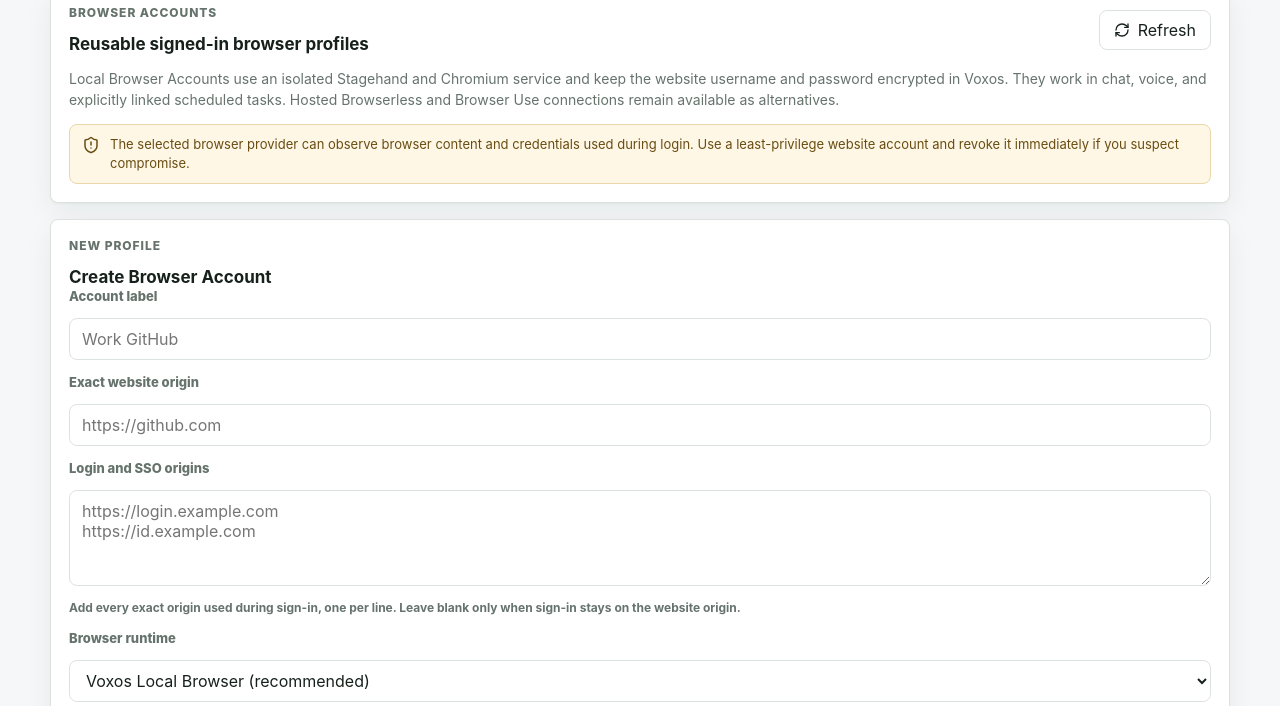
it: BrowserAccountsPage › creates an account with assignments off by default and no password field
Select "Browser Use Cloud" in the dropdown labelled "Browser runtime" at [640, 681], box [69, 660, 1211, 702]
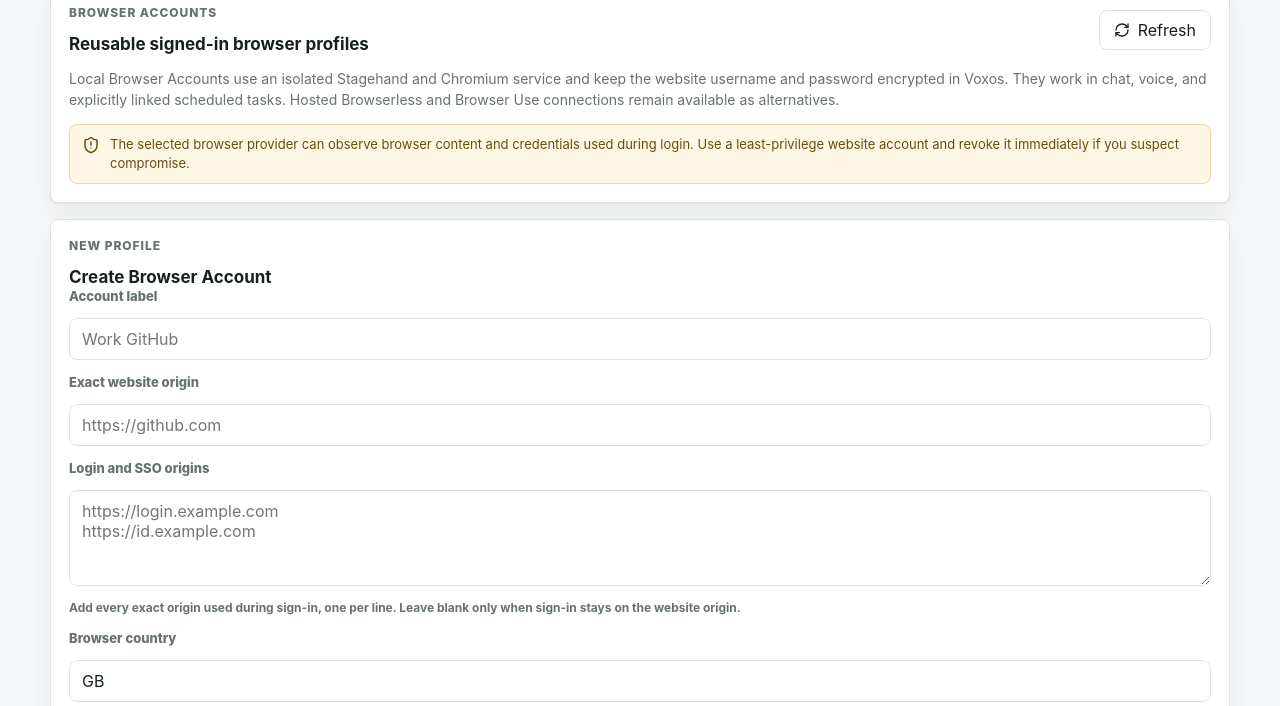
Expected: the text "Browser country" is shown, [69, 630, 176, 646]
Type "Work account" into the field labelled "Account label".
click(640, 339); type("Work account")  # box [69, 318, 1211, 360]
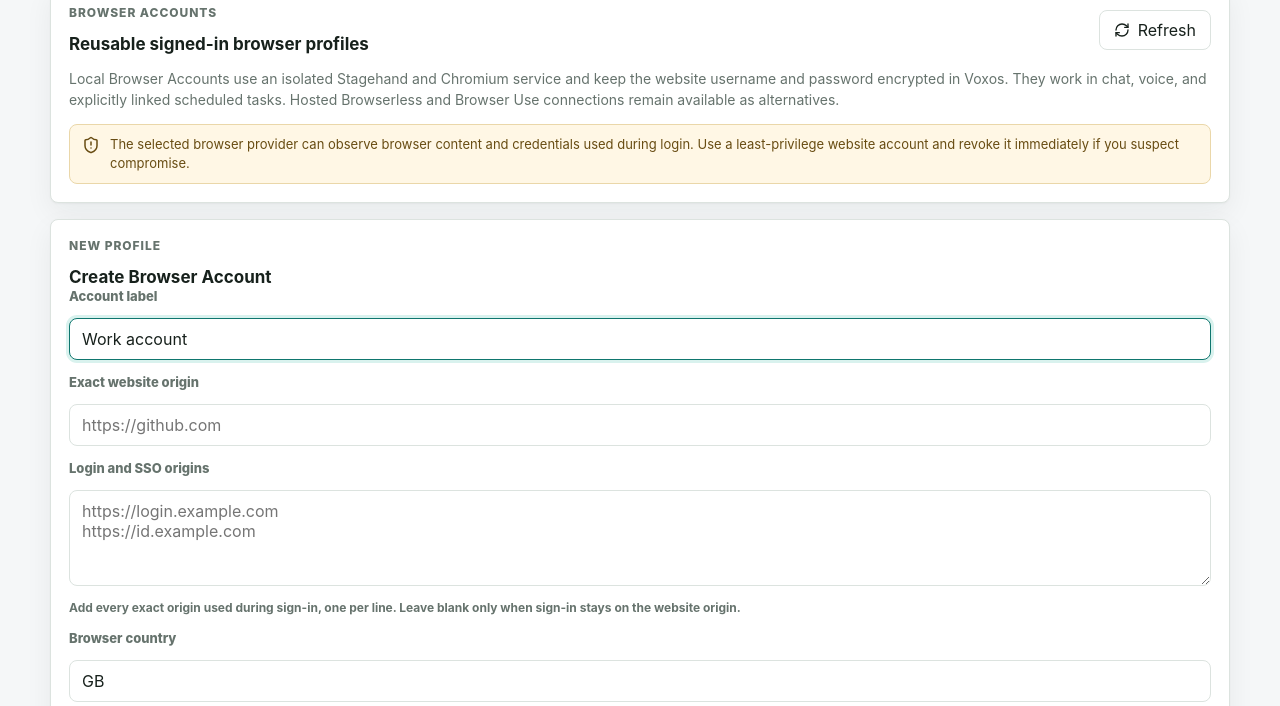
Type "https://example.com" into the field labelled "Exact website origin".
click(640, 425); type("https://example.com")  # box [69, 404, 1211, 446]
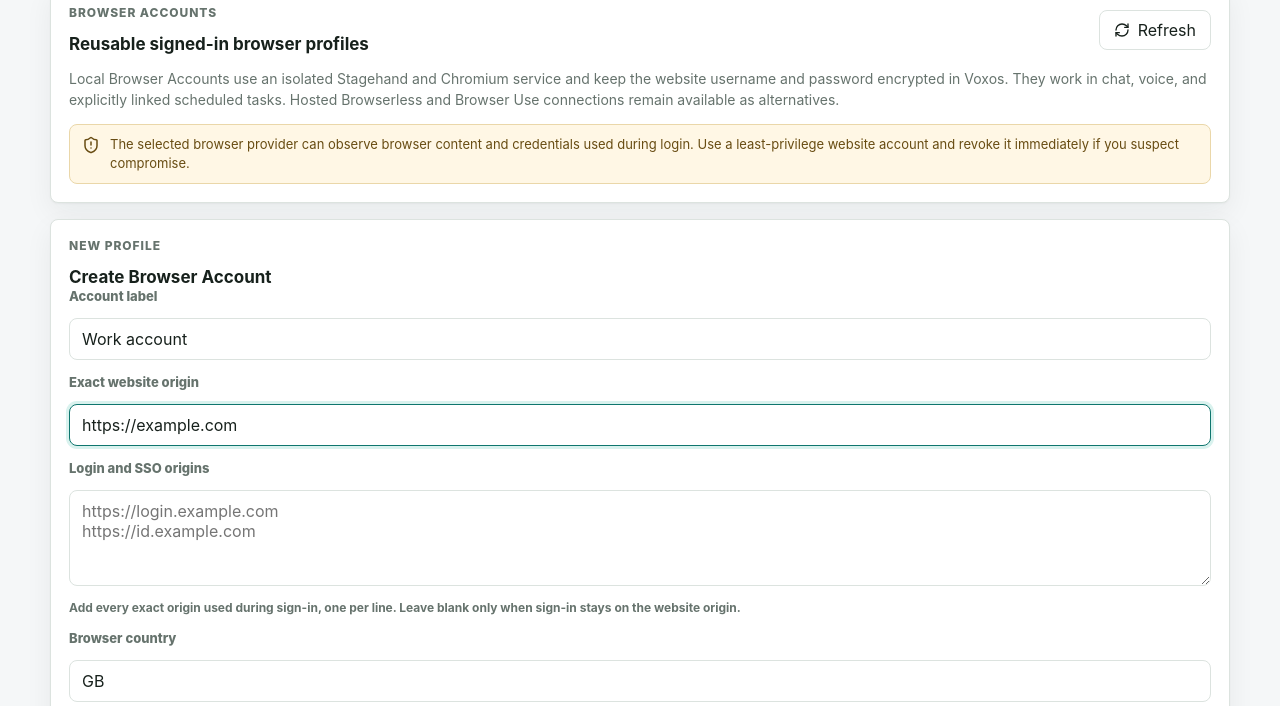
Type "https://login.example.com" into the text box labelled "Login and SSO origins".
click(640, 538); type("https://login.example.com")  # box [69, 490, 1211, 586]
(page scrolled)
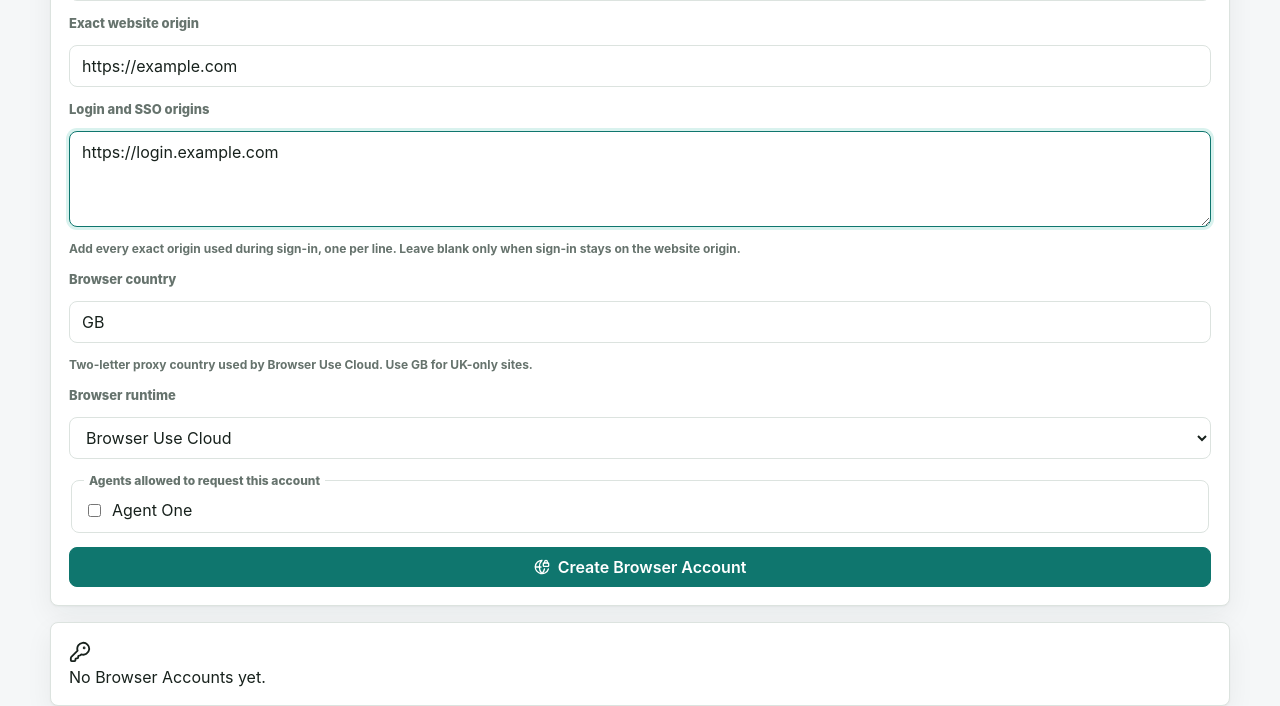
Click the button "Create Browser Account".
click(640, 567)  # box [69, 547, 1211, 587]
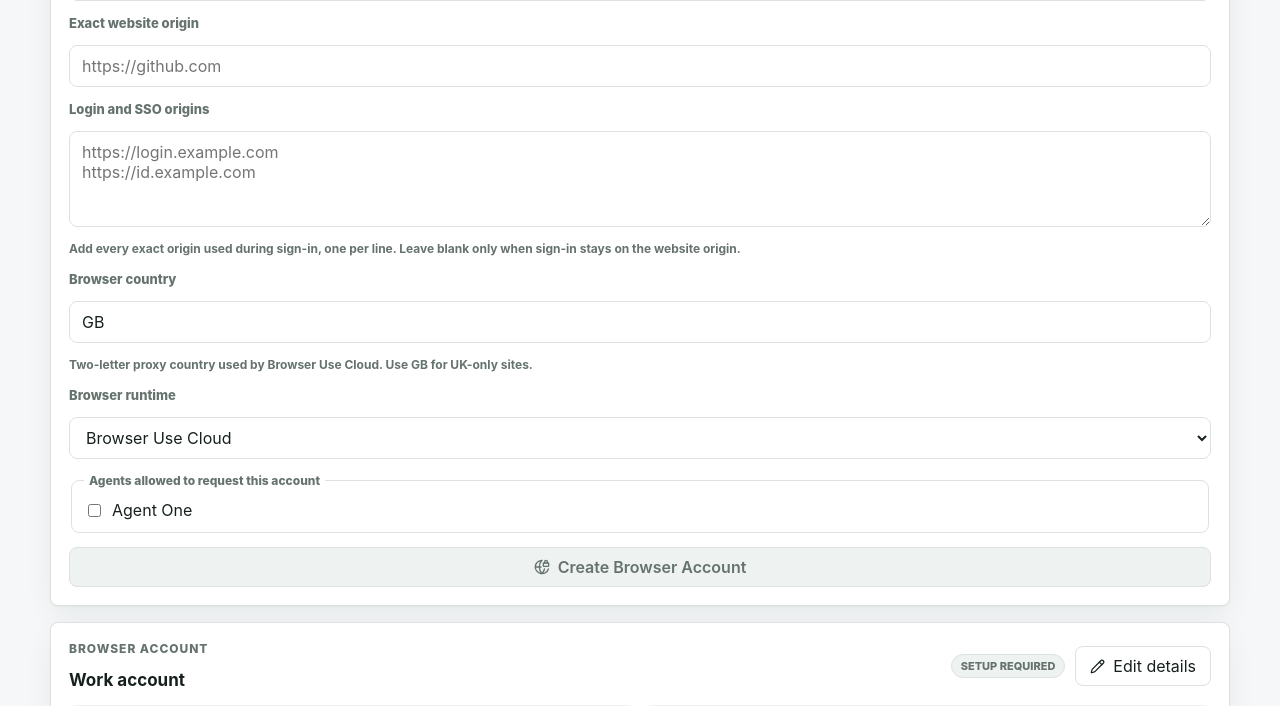
Expected: the heading "Work account" is shown, [69, 670, 185, 690]
